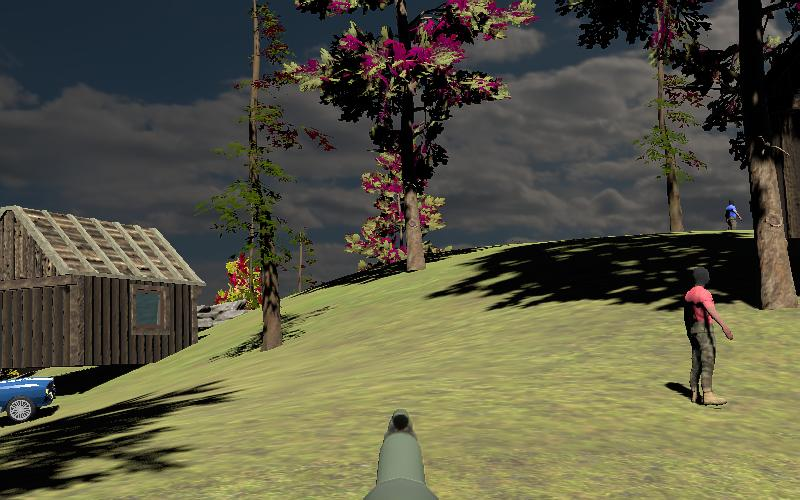House: (1, 205, 203, 377)
Human: (682, 267, 734, 407), (724, 198, 743, 233)
car: (0, 365, 60, 432)
